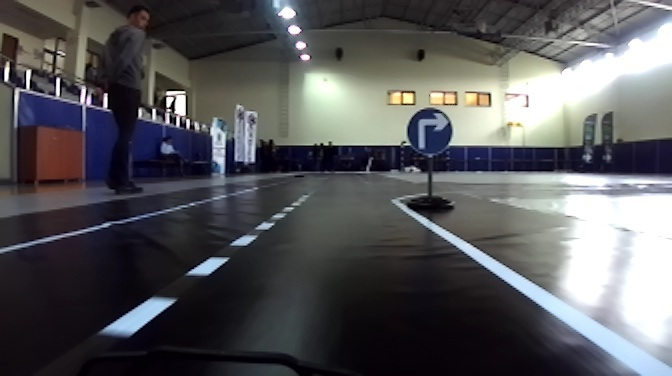saga_donus: (406, 108, 451, 153)
